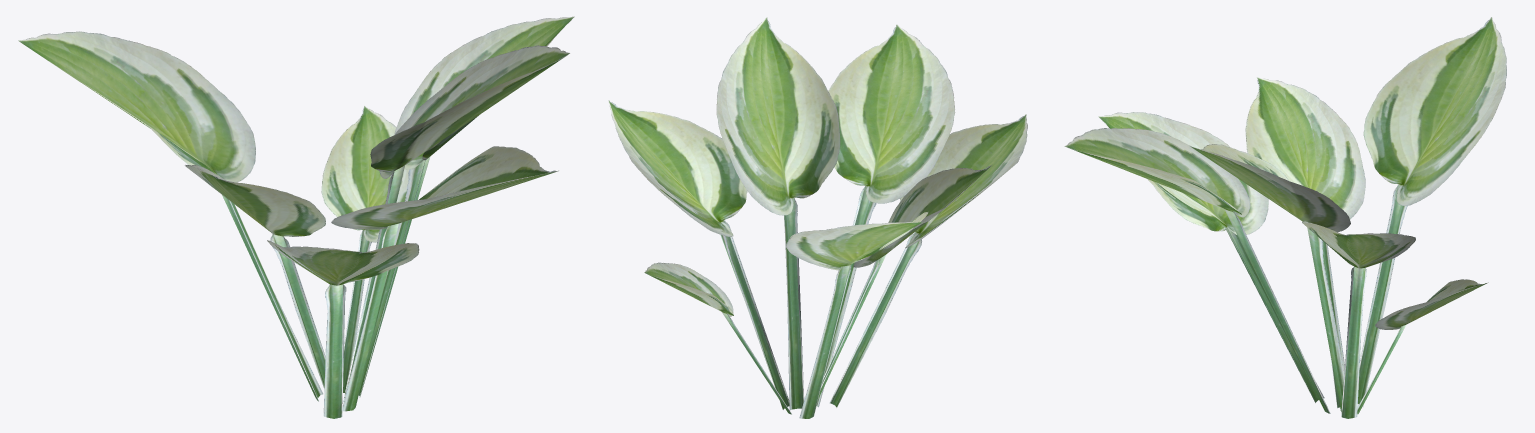
Rendered from plant_small_wg_02D.fbx.
3 renders of one model, left to right at view 1: azimuth 30°, elevation 25°; view 2: azimuth 150°, elevation 25°; view 3: azimuth 270°, elevation 25°, orthographic. The views are drawn at different scales.
Parts seen in each view (by area): view 1: plant_small_wg_02D; view 2: plant_small_wg_02D; view 3: plant_small_wg_02D.
Part boxes in pixels (bbox=[...]): plant_small_wg_02D: bbox=[18, 16, 574, 418]; plant_small_wg_02D: bbox=[608, 17, 1027, 418]; plant_small_wg_02D: bbox=[1064, 17, 1506, 418].
Bounding box in the file's own units: 62.97 × 48.62 × 62.48.
